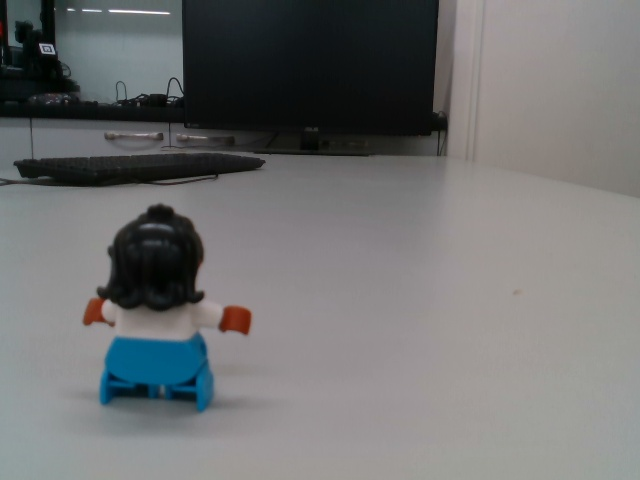people: (81, 204, 254, 414)
